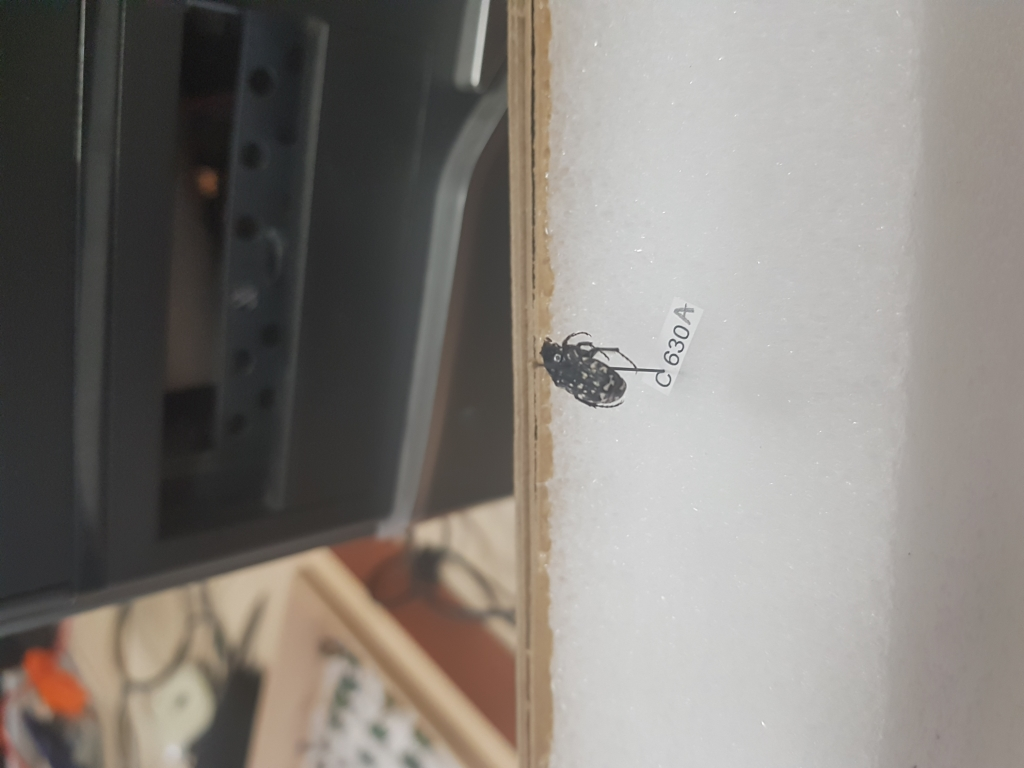Oxythyrea_albopicta: (526, 326, 642, 415)
